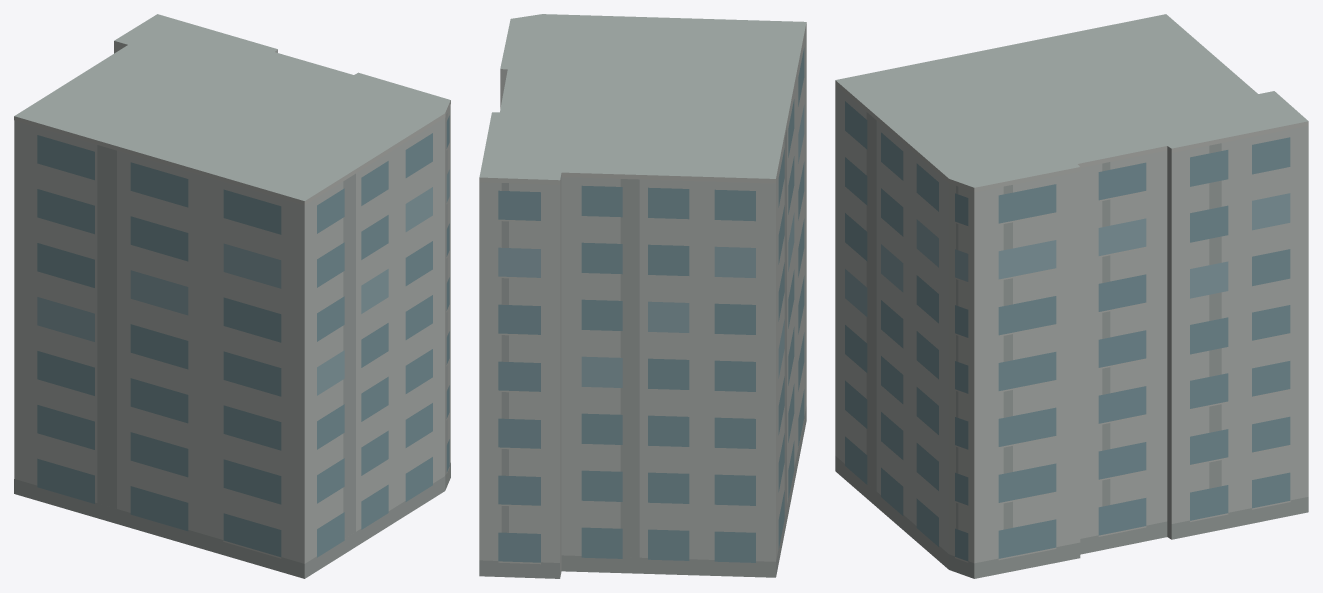
The model's file is survey-upis-33016430.glb.
The picture shows the model from 3 angles, left to right: view 1: azimuth 30°, elevation 25°; view 2: azimuth 150°, elevation 25°; view 3: azimuth 270°, elevation 25°; orthographic projection. The views are drawn at different scales.
Visible parts, largest first — view 1: survey-upis-33016430.tmp; view 2: survey-upis-33016430.tmp; view 3: survey-upis-33016430.tmp.
Boxes of the visible parts, x1,y1,x2,y2 form: survey-upis-33016430.tmp: [14, 14, 450, 578]; survey-upis-33016430.tmp: [479, 14, 806, 578]; survey-upis-33016430.tmp: [835, 14, 1308, 578].
Size of the model in its own units: 20.12 by 21.1 by 23.15.
